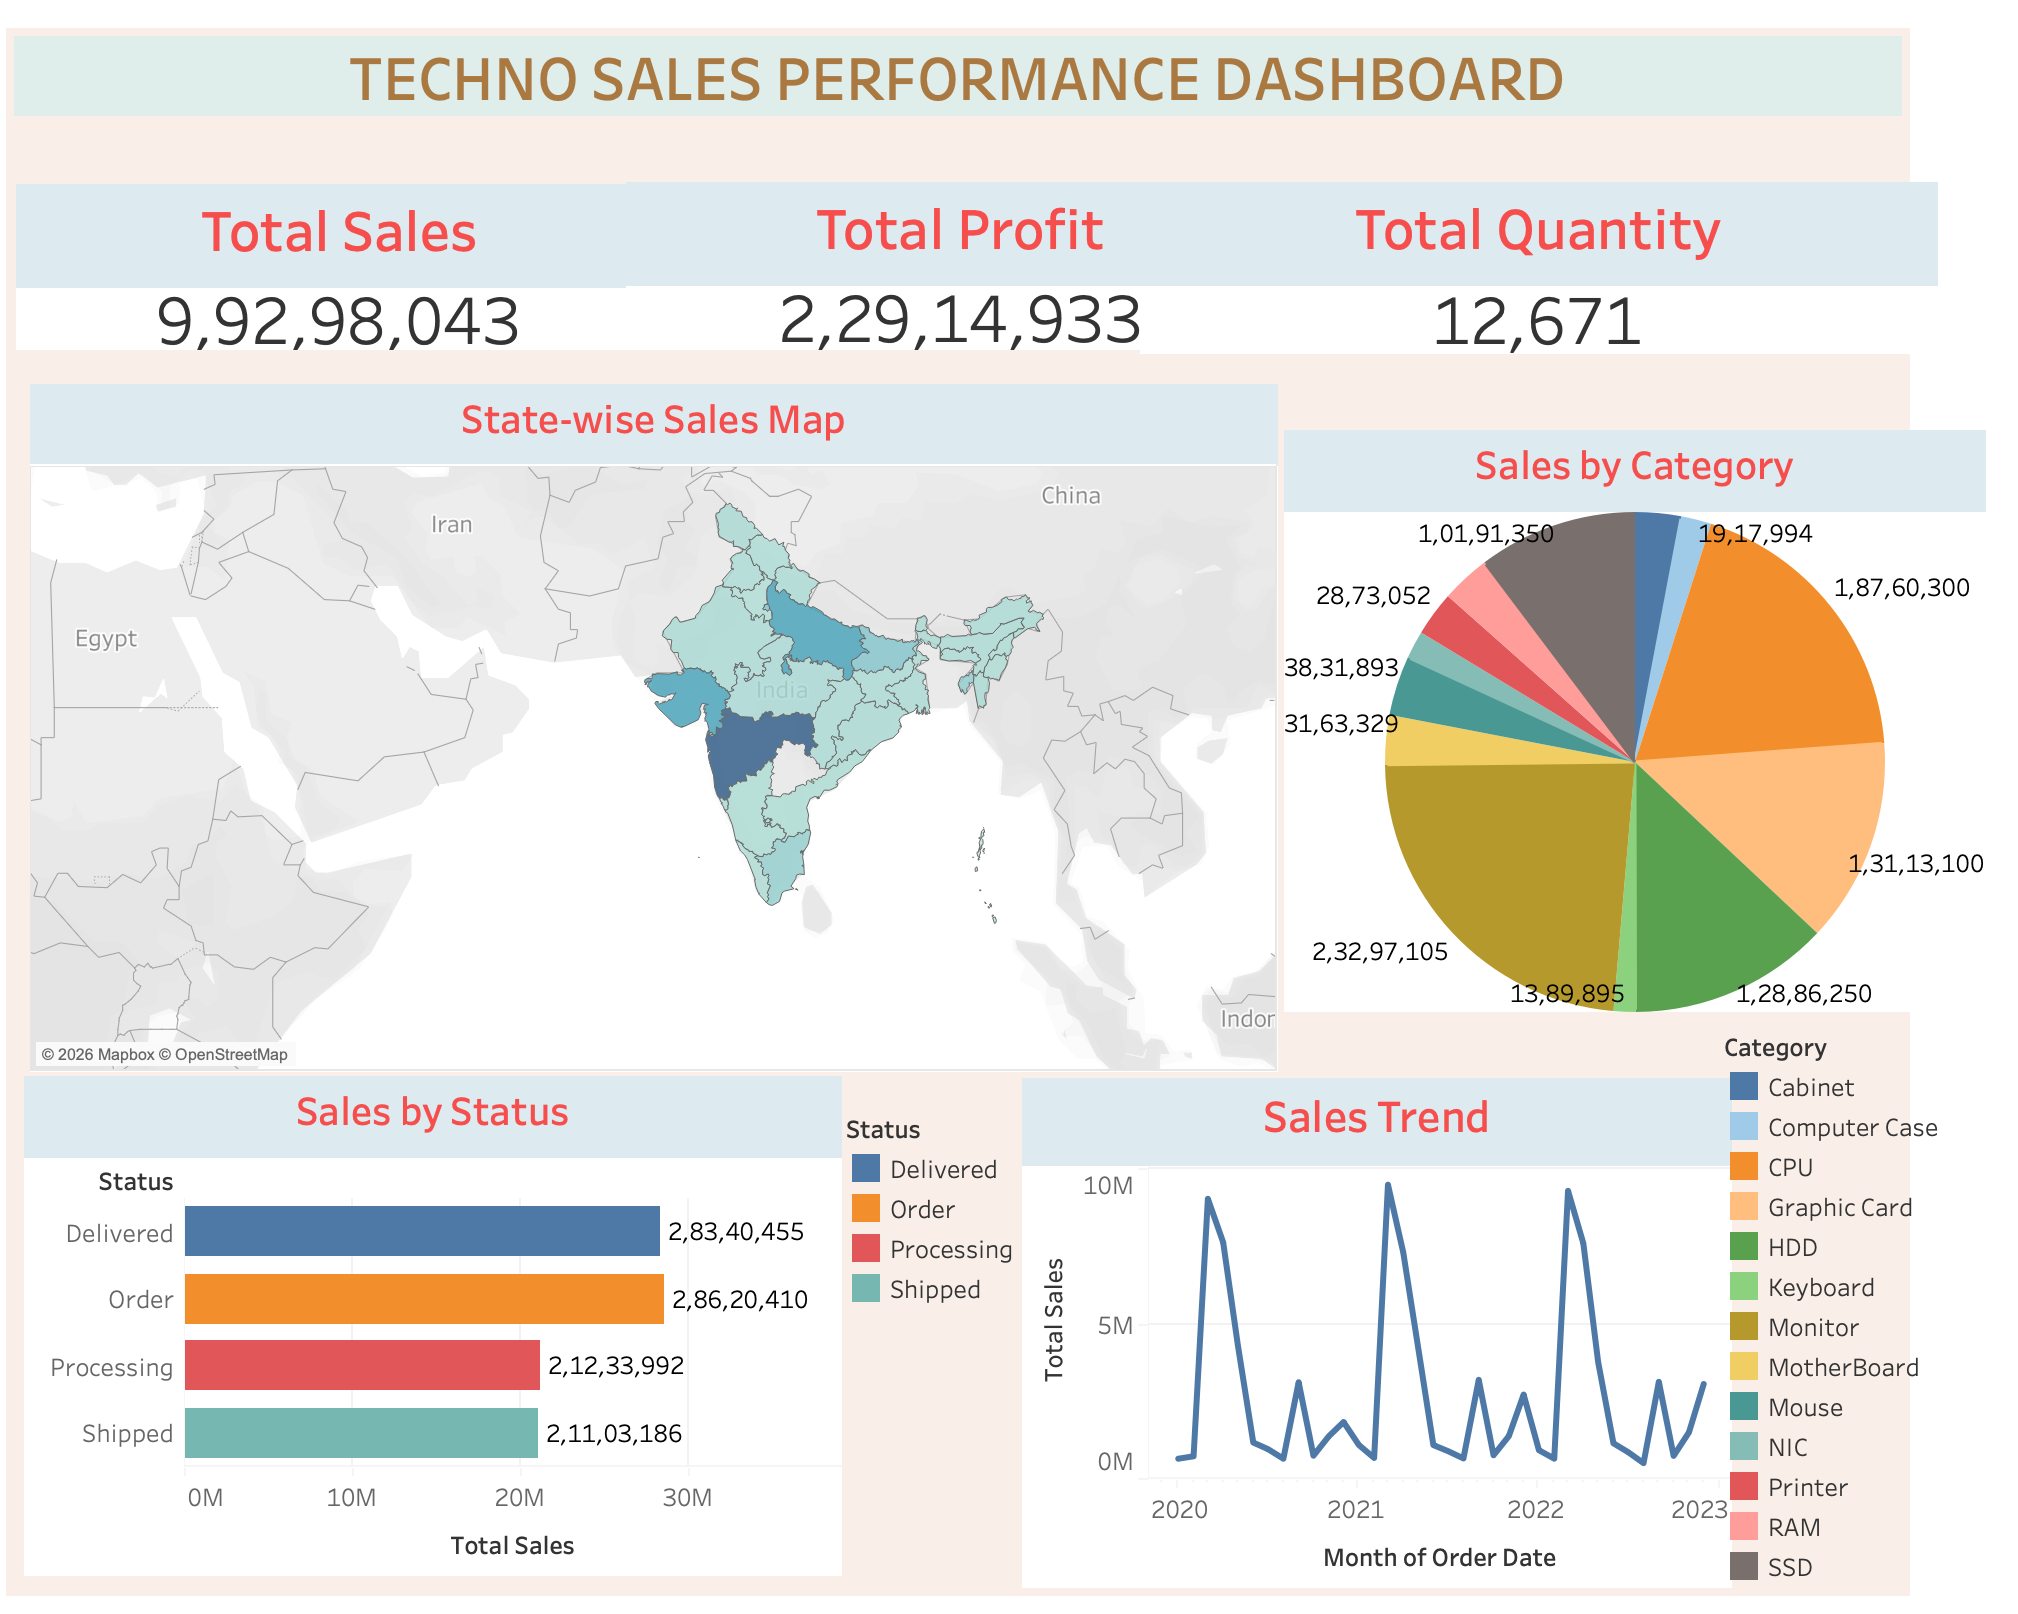

Layout of this report page (visuals, bound fields, positions):
{"tool":"tableau","page":{"name":"Dashboard 1","canvas":[1000,800],"ordinal":0},"visuals":[{"type":"title","box":[8,8,952,48]},{"type":"worksheet","title":"Sheet 3","mark":"Automatic","box":[318,85,335,84]},{"type":"worksheet","title":"Sheet 4","mark":"Automatic","box":[575,85,399,86]},{"type":"worksheet","title":"Sheet 2","mark":"Automatic","box":[13,86,324,83]},{"type":"worksheet","title":"Sheet 5","mark":"Automatic","box":[20,186,624,344]},{"type":"worksheet","title":"Sheet 10","mark":"Pie","box":[647,209,351,291]},{"type":"worksheet","title":"Sheet 7","mark":"Automatic","rows":["Status"],"cols":["Total_Sales"],"box":[17,532,409,250]},{"type":"worksheet","title":"Sheet 9","mark":"Line","rows":["Total_Sales"],"cols":["Order_Date"],"box":[516,533,355,255]},{"type":"legend","title":"Sheet 7","param":"[federated.0imwsmy1bzctp71fx5x511gbpyba].[none:Status:nk]","box":[428,550,142,158]}]}

Visuals, with their boxes in screenshot pixels (x1, y1, x2, y2), scaled from the page's 1000x800 canvas onto the 2018x1614 screenshot:
title: [16, 16, 1937, 113]
"Sheet 3" worksheet: [642, 171, 1318, 341]
"Sheet 4" worksheet: [1160, 171, 1966, 345]
"Sheet 2" worksheet: [26, 174, 680, 341]
"Sheet 5" worksheet: [40, 375, 1300, 1069]
"Sheet 10" worksheet (Pie marks): [1306, 422, 2014, 1009]
"Sheet 7" worksheet: [34, 1073, 860, 1578]
"Sheet 9" worksheet (Line marks): [1041, 1075, 1758, 1590]
"Sheet 7" legend: [864, 1110, 1150, 1428]
